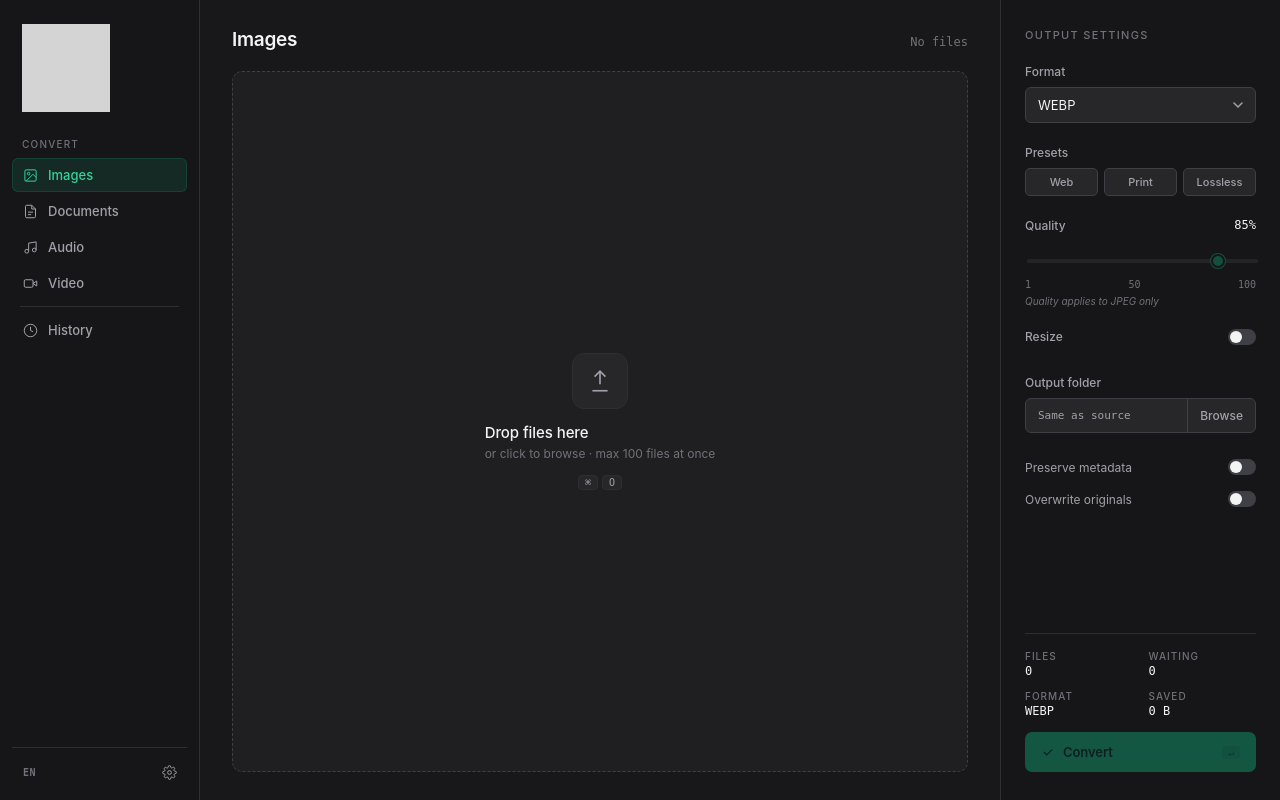
Test: App — i18n toggle › switches UI to French when toggle clicked
Click the button with class "lang-btn": coordinates (30, 772) [16,758,43,786]
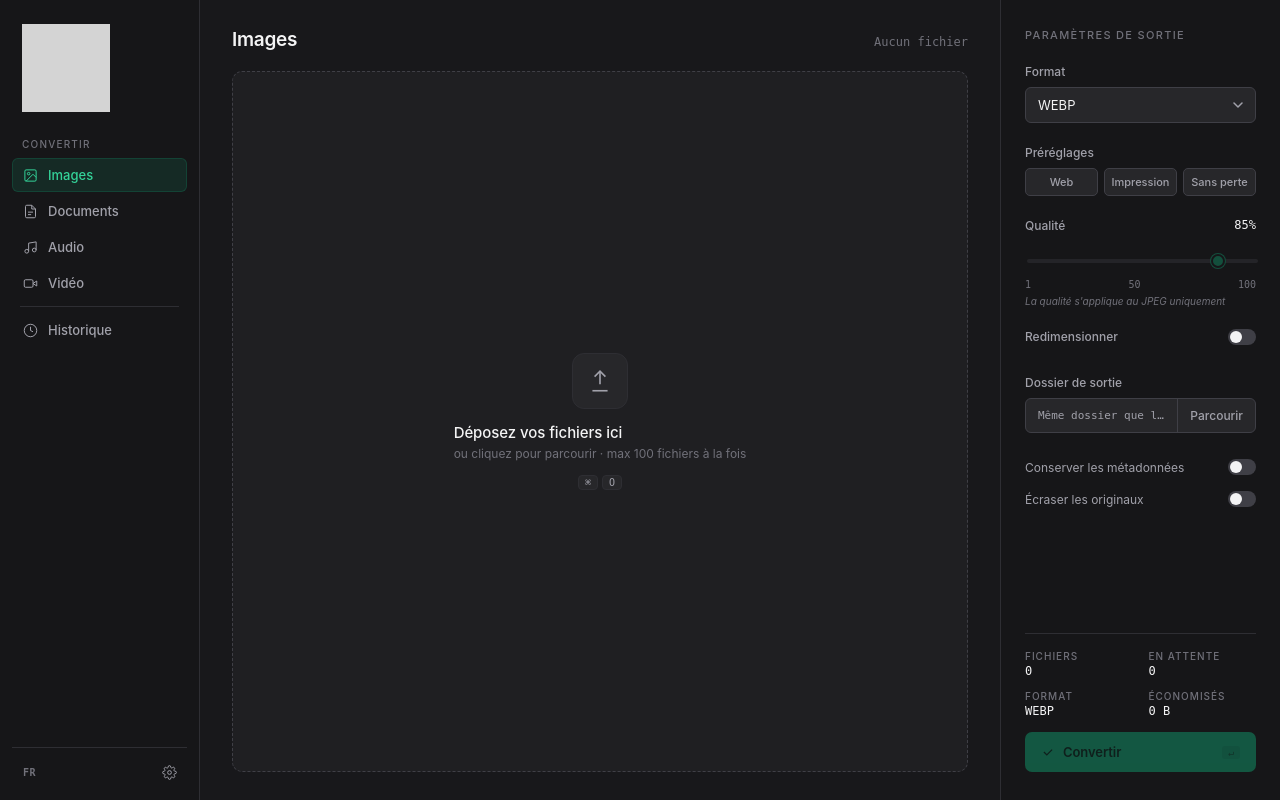
Now the text with class "drop-title" reads "Déposez vos fichiers ici", box [454,423,622,442]
